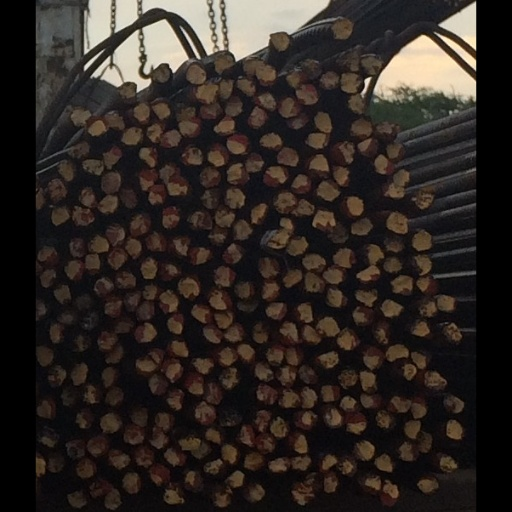dipstick: (263, 164, 294, 188), (35, 327, 64, 352), (203, 264, 233, 287), (343, 248, 377, 267), (279, 94, 307, 117), (153, 172, 179, 196), (332, 404, 359, 427), (210, 367, 239, 388), (11, 448, 36, 472), (206, 51, 232, 74), (406, 210, 432, 233), (469, 322, 495, 345), (58, 434, 85, 456), (107, 211, 134, 233), (57, 114, 84, 136), (349, 327, 377, 348), (0, 396, 25, 419), (276, 190, 302, 212), (198, 143, 224, 165), (410, 274, 436, 296), (436, 347, 462, 369), (149, 443, 175, 465), (202, 486, 229, 507), (390, 451, 417, 472), (129, 463, 156, 484), (131, 373, 158, 394), (353, 72, 381, 92), (327, 179, 355, 199), (267, 228, 295, 248), (362, 409, 385, 433), (199, 290, 228, 309), (142, 289, 167, 311), (11, 178, 36, 200), (255, 64, 281, 85), (217, 187, 243, 208), (290, 235, 316, 256), (193, 382, 219, 403), (116, 353, 142, 374), (186, 83, 213, 103), (179, 302, 206, 322), (239, 481, 266, 501), (368, 306, 395, 326), (170, 115, 193, 138), (147, 358, 170, 381), (317, 154, 341, 176), (250, 203, 274, 225), (279, 364, 303, 386), (251, 320, 275, 342), (116, 444, 140, 466), (12, 364, 36, 386), (322, 210, 347, 231), (260, 280, 285, 301), (379, 347, 404, 368), (443, 274, 468, 295), (101, 422, 126, 443), (42, 205, 67, 226), (220, 133, 246, 153), (258, 256, 284, 276), (302, 84, 329, 103), (222, 164, 249, 183), (247, 106, 270, 128), (95, 80, 118, 102), (185, 403, 209, 424), (368, 439, 392, 460), (35, 438, 59, 459), (151, 386, 172, 410), (138, 411, 162, 432), (401, 179, 426, 199), (178, 245, 203, 265), (377, 390, 402, 410), (149, 483, 174, 503), (92, 270, 117, 290), (189, 168, 215, 187), (218, 244, 244, 263), (194, 458, 220, 477), (266, 301, 292, 320), (258, 132, 285, 150), (400, 483, 422, 505), (100, 472, 122, 494), (305, 386, 328, 407), (131, 425, 154, 446), (173, 370, 194, 393), (147, 207, 170, 228), (136, 98, 159, 119), (82, 223, 105, 244), (77, 170, 98, 193), (343, 18, 367, 38), (207, 115, 231, 135), (207, 206, 231, 226), (351, 368, 375, 388), (394, 408, 418, 428), (327, 347, 351, 367), (473, 392, 497, 412), (298, 483, 322, 503), (45, 408, 69, 428), (119, 170, 143, 190), (32, 259, 56, 279), (326, 317, 351, 336), (451, 368, 476, 387), (394, 122, 420, 140), (218, 323, 244, 341), (300, 410, 326, 428), (373, 265, 399, 283), (370, 287, 396, 305), (169, 277, 190, 299), (215, 443, 237, 464), (272, 416, 294, 437), (379, 244, 401, 265), (80, 342, 101, 364), (83, 247, 105, 268), (81, 109, 103, 130), (233, 76, 256, 96), (257, 383, 280, 403), (282, 388, 305, 408), (270, 452, 293, 472), (438, 230, 461, 250), (77, 366, 100, 386), (136, 62, 159, 82), (361, 94, 385, 113), (281, 146, 305, 165), (217, 96, 241, 115), (205, 309, 229, 328), (193, 323, 217, 342), (312, 272, 336, 291), (337, 289, 361, 308), (434, 318, 458, 337), (436, 255, 460, 274), (85, 448, 109, 467), (115, 322, 139, 341), (145, 128, 169, 147), (177, 211, 202, 229), (313, 132, 339, 149), (182, 356, 208, 373), (310, 254, 336, 271), (378, 53, 400, 73), (76, 412, 98, 432), (104, 236, 126, 256), (2, 246, 24, 266), (46, 291, 68, 311), (296, 174, 319, 193), (210, 346, 233, 365), (255, 432, 278, 451), (264, 345, 287, 364), (232, 279, 255, 298), (331, 383, 354, 402), (78, 388, 101, 407), (117, 300, 140, 319), (121, 146, 144, 165), (129, 232, 152, 251), (173, 471, 197, 489), (60, 233, 84, 251), (40, 107, 64, 125), (22, 306, 46, 324), (242, 452, 267, 469), (401, 299, 426, 316), (152, 339, 177, 356), (324, 111, 345, 131), (360, 195, 380, 216), (174, 144, 195, 164), (41, 363, 62, 383), (0, 344, 21, 364), (242, 153, 264, 172), (191, 189, 213, 208), (427, 418, 449, 437), (131, 185, 153, 204), (72, 193, 94, 212), (26, 160, 48, 179), (407, 344, 433, 360), (272, 32, 295, 50), (365, 119, 388, 137), (100, 126, 123, 144), (256, 360, 275, 381), (477, 419, 498, 438), (79, 488, 98, 509), (122, 257, 141, 278), (156, 236, 177, 255), (38, 237, 59, 256), (18, 205, 39, 224), (175, 65, 197, 83), (443, 298, 465, 316), (191, 102, 214, 119), (376, 139, 399, 156), (333, 267, 356, 284), (394, 155, 414, 174), (344, 167, 364, 186), (152, 313, 171, 333), (114, 103, 133, 123), (407, 142, 428, 160), (352, 142, 370, 163), (20, 284, 41, 302), (234, 344, 256, 361), (423, 443, 445, 460), (37, 489, 59, 506), (68, 278, 90, 295), (367, 218, 390, 234), (444, 477, 467, 493), (380, 476, 400, 494), (220, 468, 241, 485), (331, 72, 352, 89), (467, 295, 488, 312), (412, 396, 434, 412), (56, 158, 78, 174), (305, 303, 324, 321), (130, 123, 148, 142), (300, 435, 320, 452), (48, 459, 68, 476), (353, 459, 374, 475), (58, 253, 75, 271), (5, 269, 22, 286), (436, 402, 454, 417), (426, 364, 442, 379), (418, 170, 433, 185)
